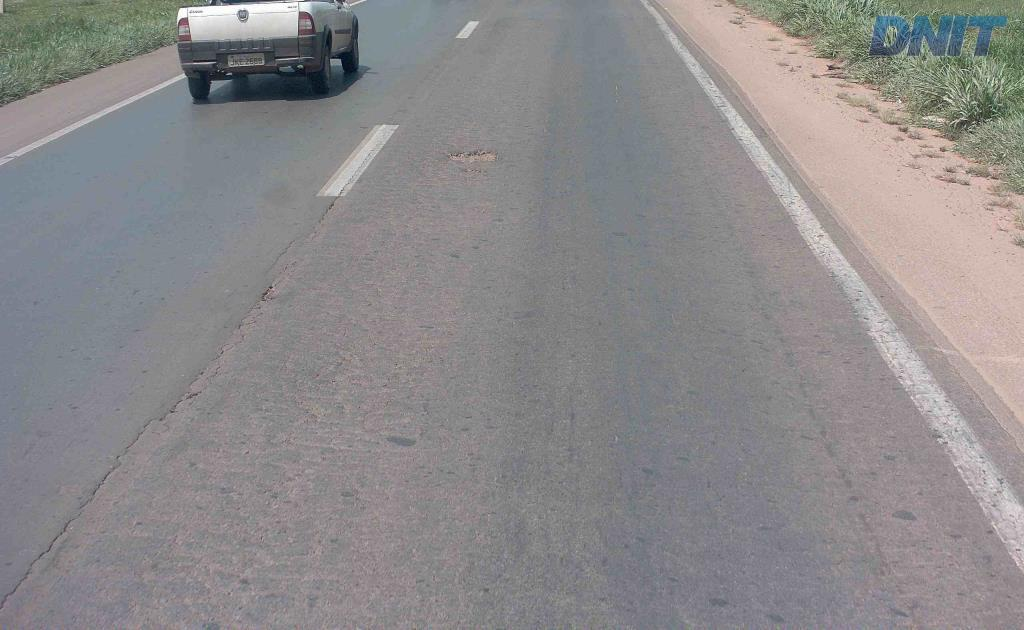pothole: (444, 144, 504, 164)
